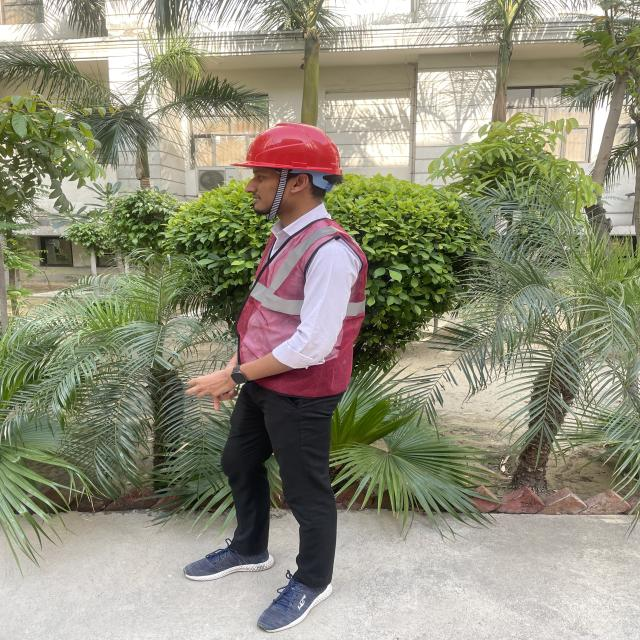safe: (188, 123, 365, 632)
